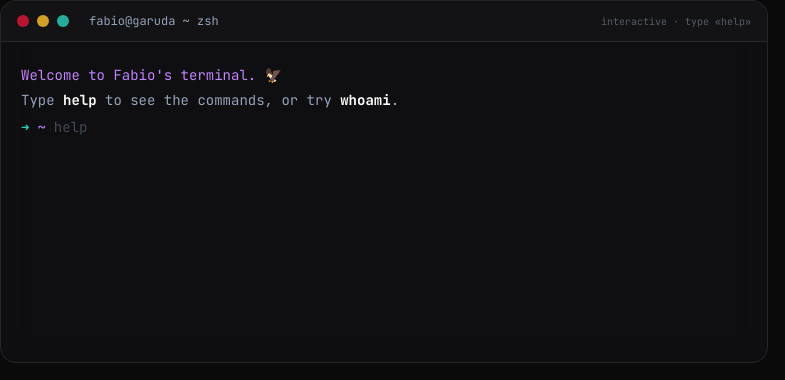
Test: Terminal — versione inglese › errori in inglese
Type "boh" into the field named "Interactive terminal" at (400,127), box [54,116,747,138]
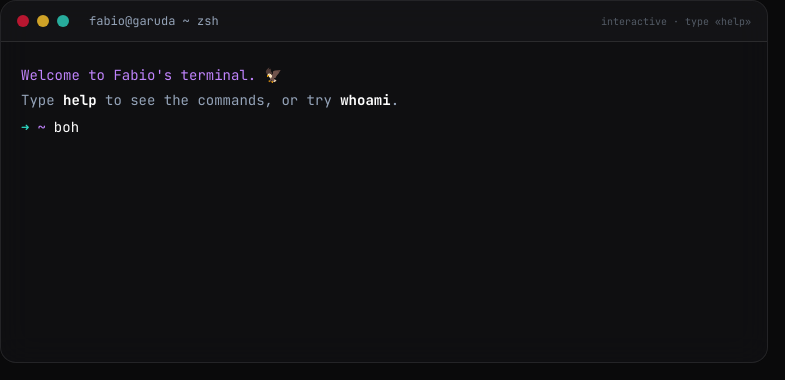
Press Enter in the field named "Interactive terminal", box [54,116,747,138]
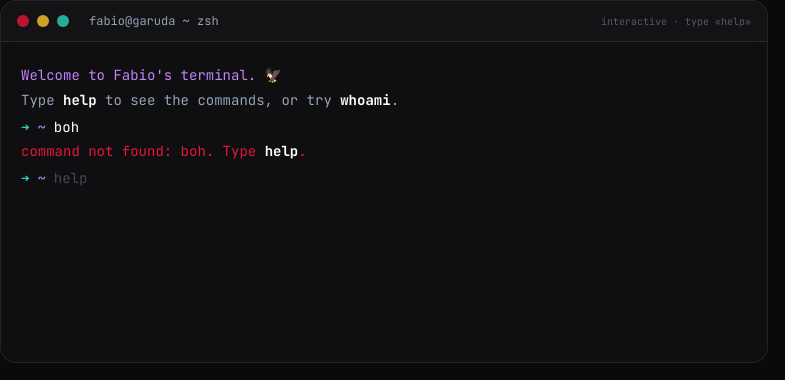
expect the text "command not found: boh. Type help." is shown: met, box [21,142,307,160]
Type "open 99" into the field named "Interactive terminal" at (400,178), box [54,167,747,190]
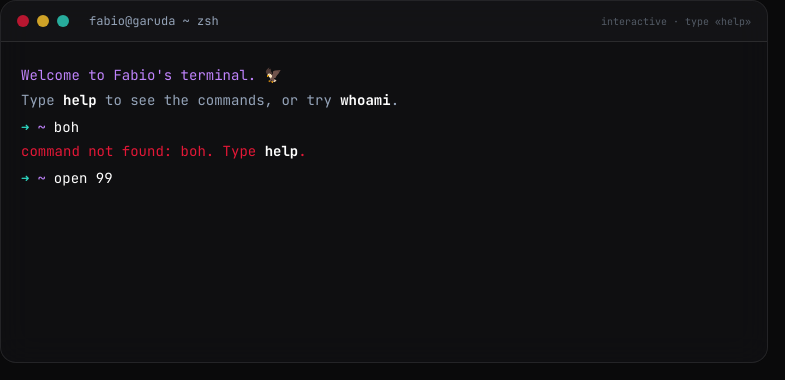
Press Enter in the field named "Interactive terminal", box [54,167,747,190]
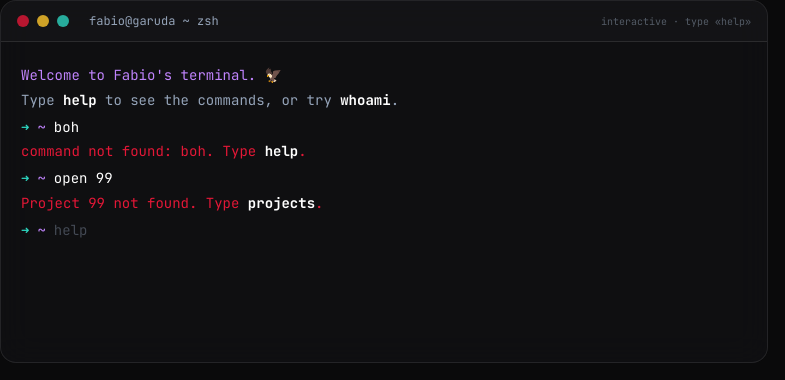
expect the text "Project 99 not found. Type projects." is shown: met, box [21,194,323,212]
